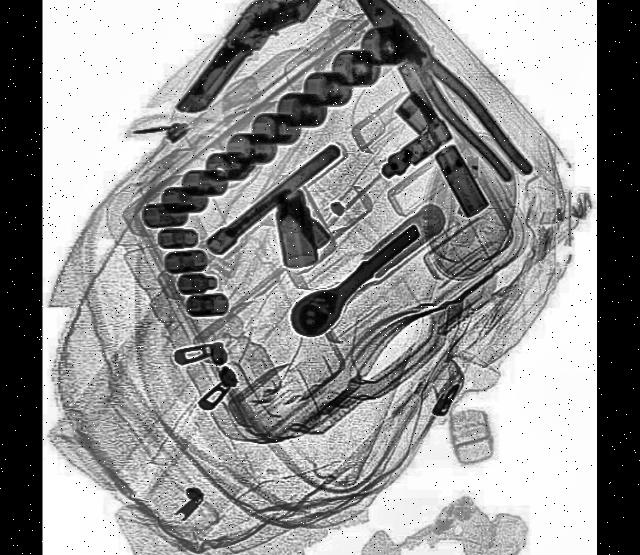Gun: (178, 0, 315, 153)
Pliers: (349, 0, 536, 199)
